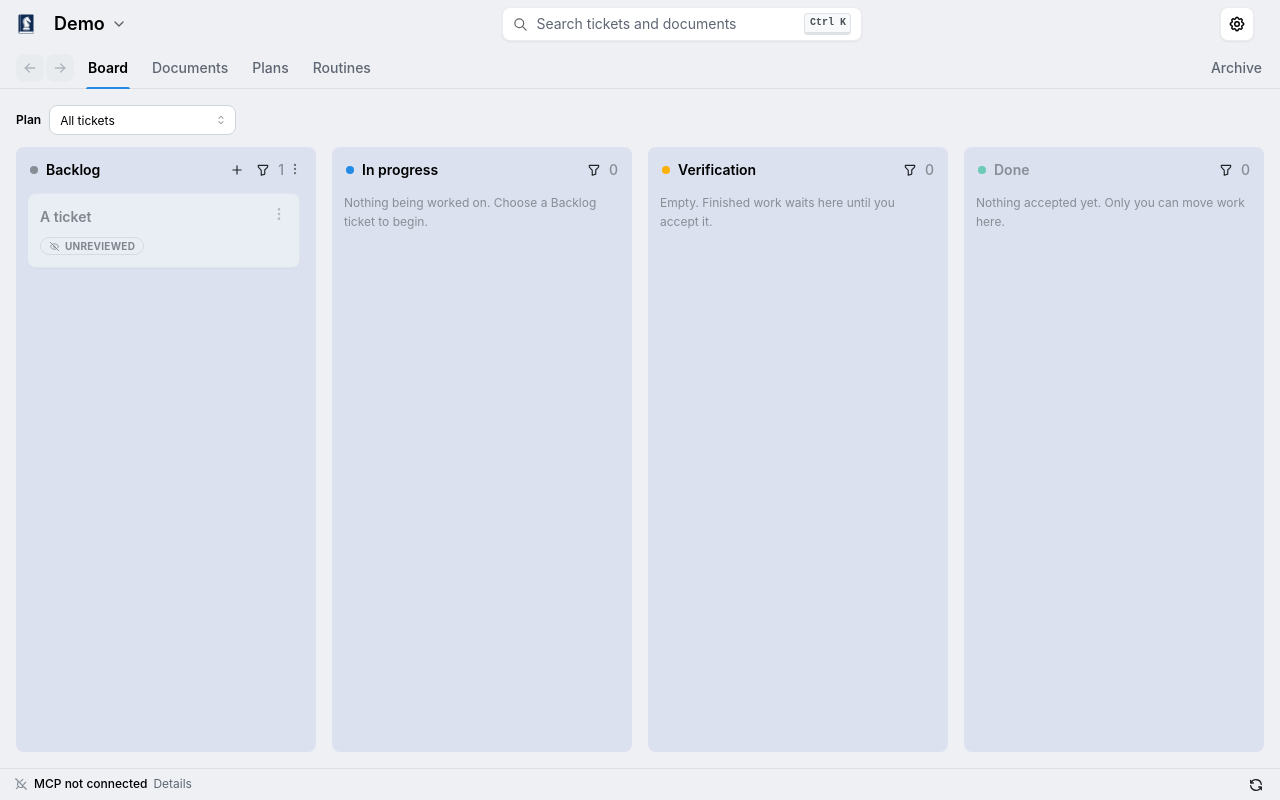
the Routines pane › opens a run as an ordinary ticket
Expected: the text "A ticket" is shown, [40, 208, 91, 225]
Click the tab "Routines": coordinates (342, 68) [311, 48, 373, 88]
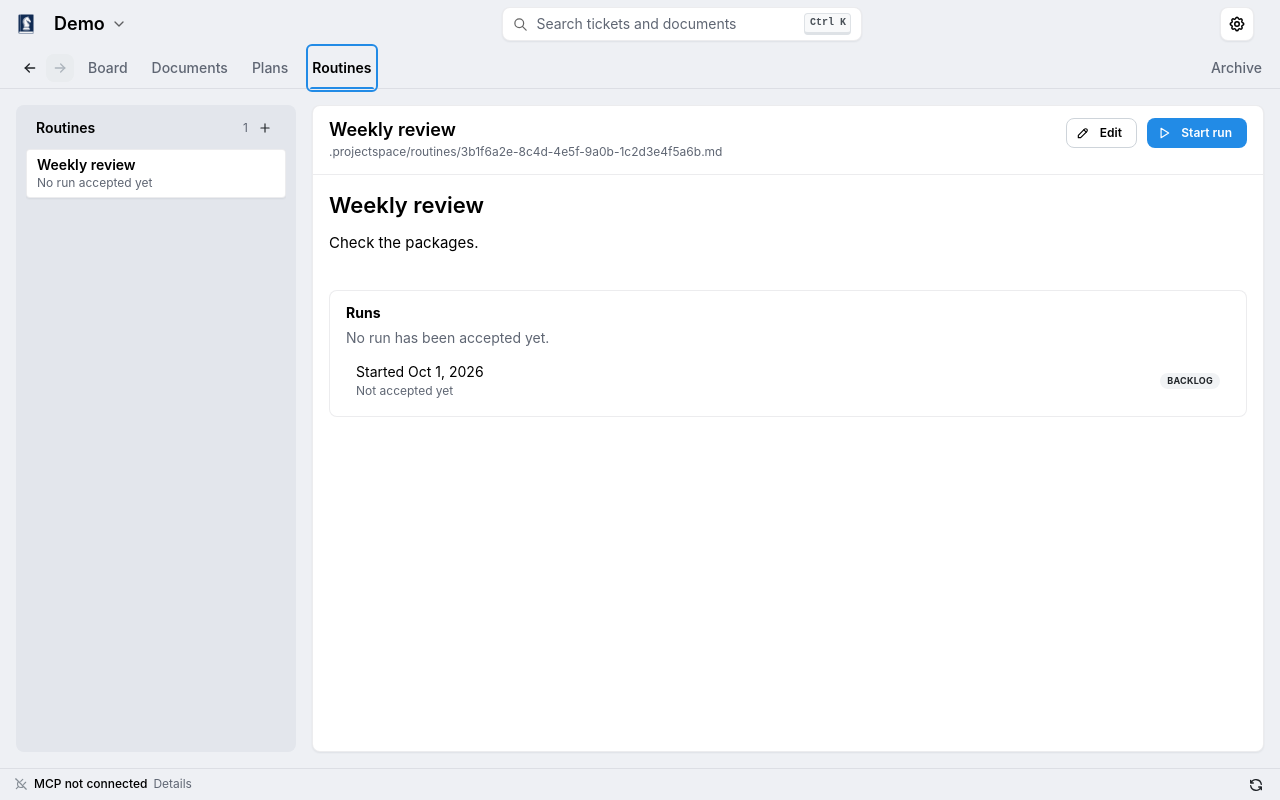
Click the button with aria-label "Open the run started": coordinates (382, 372) [346, 358, 1230, 404]
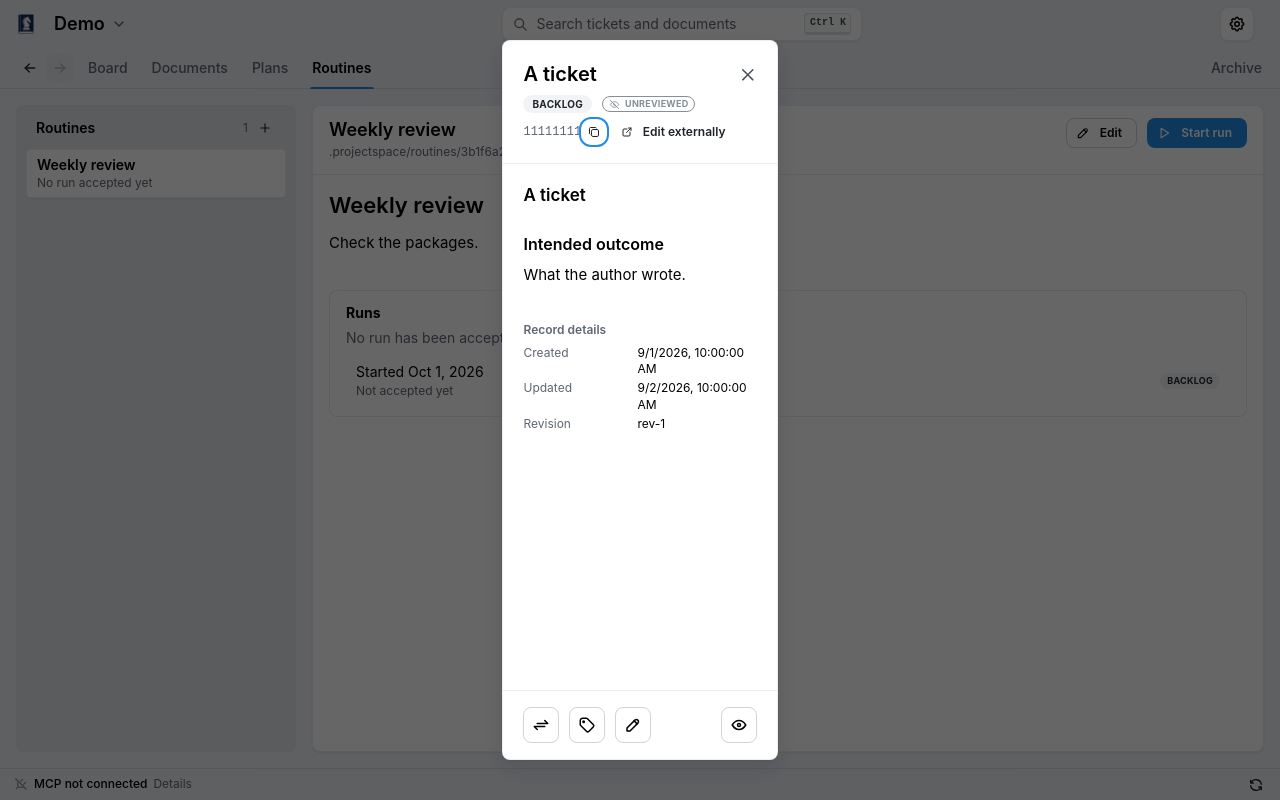
Now the dialog "A ticket" is shown, box [502, 40, 778, 760]
